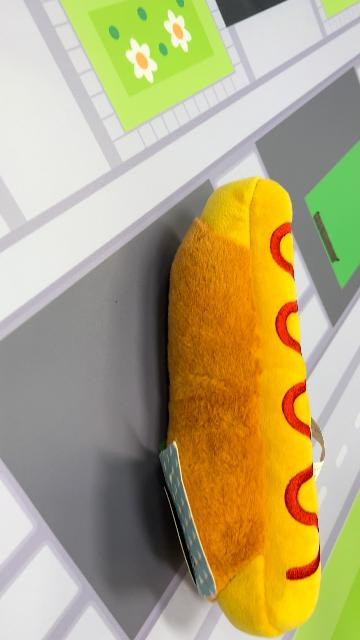hotdog: (161, 175, 324, 637)
